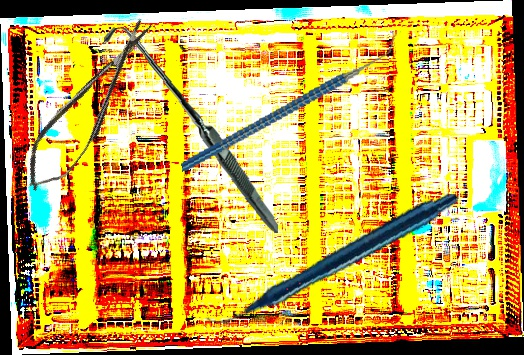Chopper: (165, 32, 414, 172)
Handpiece: (205, 162, 459, 354)
Hook Surgical: (93, 27, 289, 233)
Micro Scissor: (10, 10, 171, 201)
